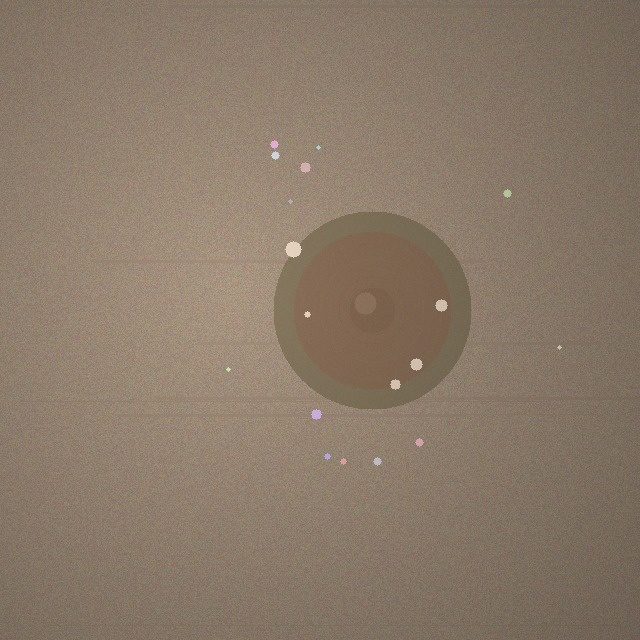overburn: (273, 211, 471, 409)
